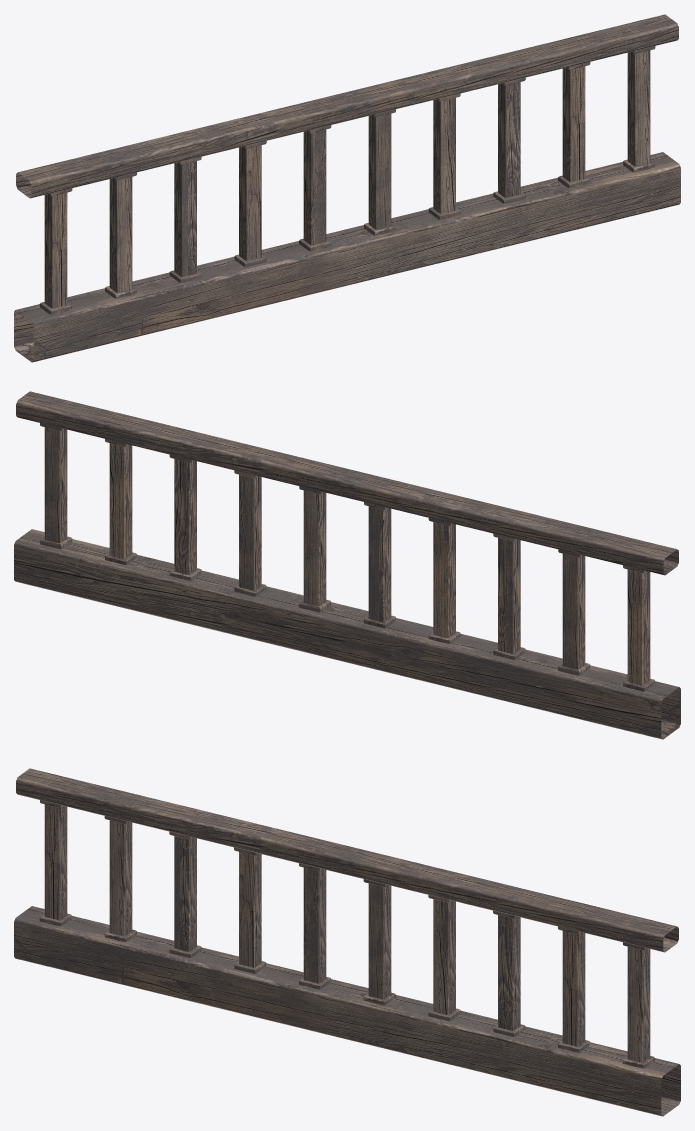
The model's file is IntWoodFence01.FBX.
The picture shows the model from 3 angles, top to bottom: view 1: azimuth 30°, elevation 25°; view 2: azimuth 150°, elevation 25°; view 3: azimuth 330°, elevation 25°; orthographic projection.
Parts seen in each view (by area): view 1: Object024; view 2: Object024; view 3: Object024.
Part boxes in pixels (<box>): Object024: <box>14,14,680,362</box>; Object024: <box>14,391,680,739</box>; Object024: <box>14,768,680,1116</box>.
Size of the model in its own units: 98.43 by 26.12 by 5.14.
